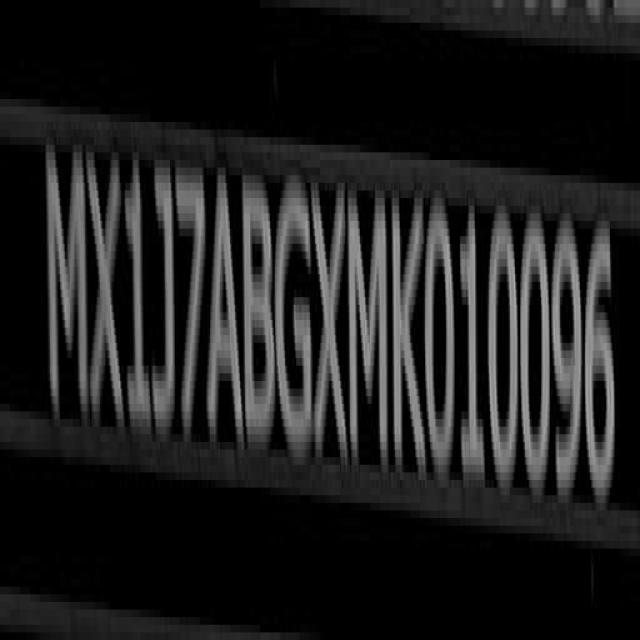0: (490, 207, 522, 495), (426, 198, 456, 486), (522, 211, 552, 497)
1: (458, 194, 482, 488)
6: (588, 217, 618, 510)
7: (178, 158, 209, 452)
9: (552, 215, 582, 503)
A: (210, 161, 242, 453)
B: (244, 172, 276, 458)
G: (277, 167, 311, 466)
J: (152, 138, 176, 449)
K: (392, 186, 424, 477)
L: (128, 152, 152, 440)
M: (47, 130, 89, 434), (350, 178, 389, 477)
X: (88, 138, 126, 442), (314, 176, 349, 473)
